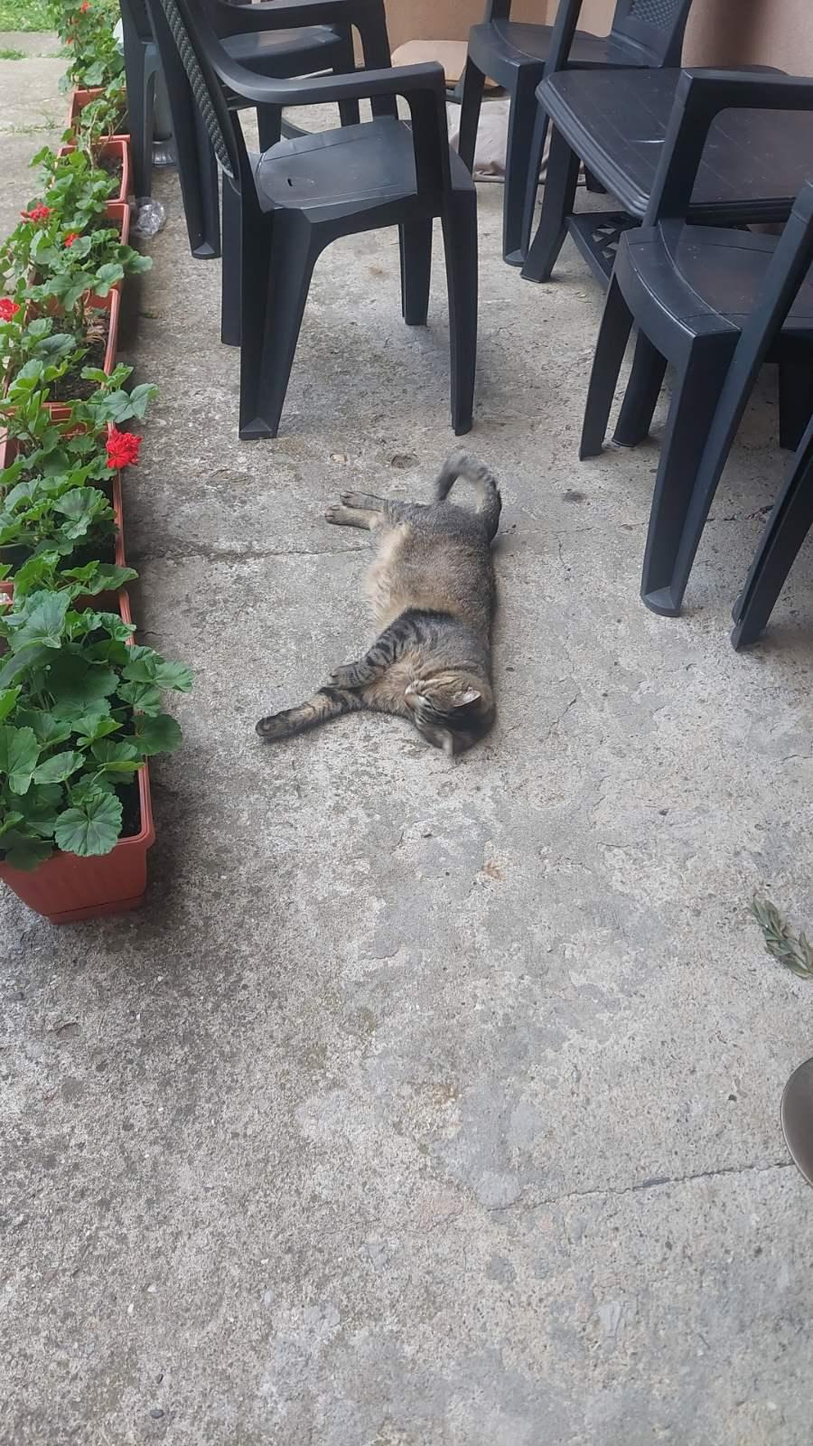macka: (254, 450, 504, 758)
